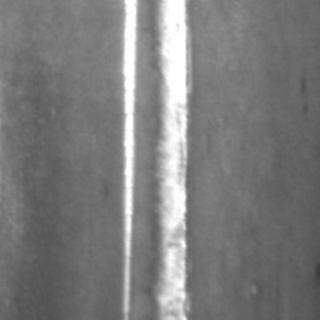scratches: (148, 0, 192, 318), (116, 0, 140, 316)
